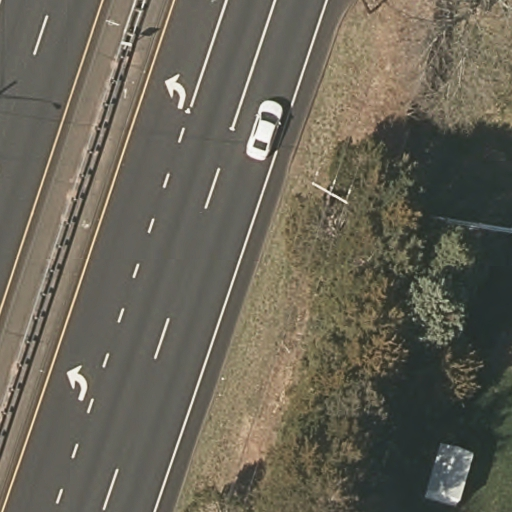DT: (305, 171, 354, 217)
